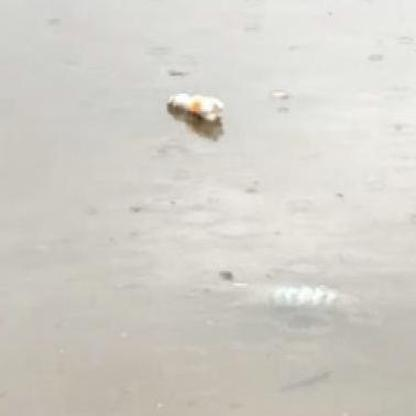plastic bottle: (166, 93, 222, 123)
